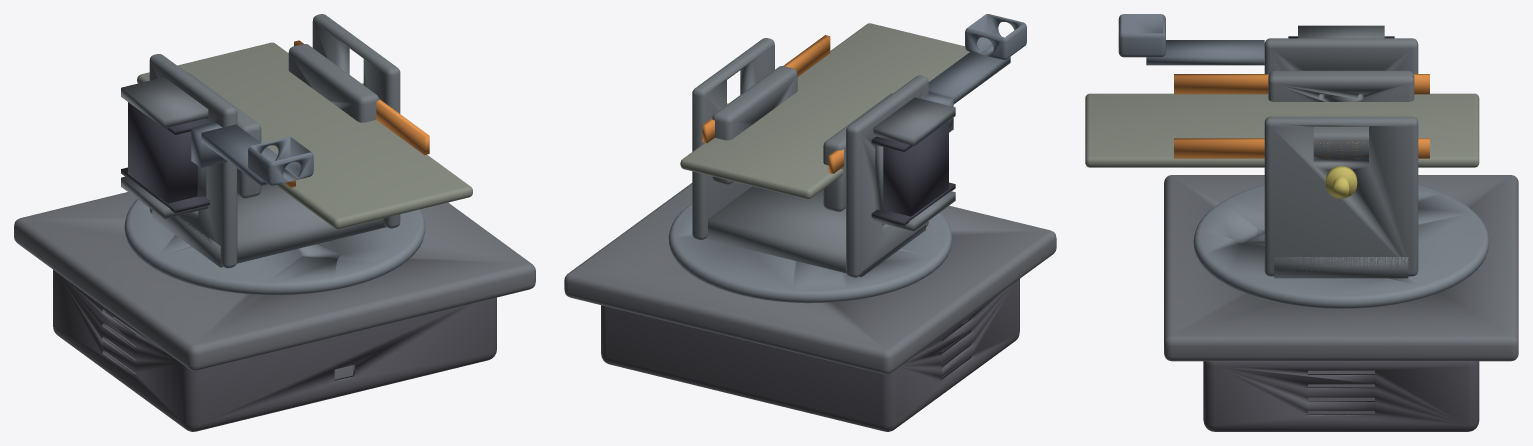
File: Turret_V1.glb
The picture shows the model from 3 angles, left to right: view 1: azimuth 30°, elevation 25°; view 2: azimuth 150°, elevation 25°; view 3: azimuth 270°, elevation 25°; orthographic projection. The views are drawn at different scales.
Parts seen in each view (by area): view 1: Base_Plate, Electronics_Box, Turret_Platform, Pan_Platform, Yoke_Bridge, Yoke_Left, Tilt_Servo_REF, Yoke_Right, Side_R, Servo_Clamp_Top, Camera_Mount, Camera_Arm (+5 smaller); view 2: Base_Plate, Electronics_Box, Turret_Platform, Pan_Platform, Yoke_Bridge, Yoke_Left, Yoke_Right, Tilt_Servo_REF, Side_R, Servo_Clamp_Top, Camera_Arm, Camera_Mount (+5 smaller); view 3: Base_Plate, Yoke_Right, Electronics_Box, Turret_Platform, Pan_Platform, Yoke_Left, Side_L, Yoke_Bridge, Camera_Arm, Rail_L, Rail_R, Camera_Mount (+3 smaller).
Boxes of the visible parts, box(x1,y1,x2,y2) form: Base_Plate: box(14, 192, 535, 370); Electronics_Box: box(53, 270, 496, 431); Turret_Platform: box(137, 42, 472, 229); Pan_Platform: box(124, 199, 425, 295); Yoke_Bridge: box(152, 184, 386, 267); Yoke_Left: box(149, 54, 237, 268); Tilt_Servo_REF: box(128, 102, 197, 203); Yoke_Right: box(312, 14, 400, 228); Side_R: box(288, 44, 379, 122); Servo_Clamp_Top: box(121, 77, 208, 128); Camera_Mount: box(248, 137, 313, 185); Camera_Arm: box(201, 124, 277, 185); Base_Plate: box(564, 183, 1056, 374); Electronics_Box: box(601, 279, 1019, 431); Turret_Platform: box(680, 23, 969, 199); Pan_Platform: box(668, 203, 952, 303); Yoke_Bridge: box(705, 186, 925, 276); Yoke_Left: box(846, 75, 928, 277); Yoke_Right: box(692, 38, 774, 239); Tilt_Servo_REF: box(883, 121, 948, 216); Side_R: box(712, 66, 797, 184); Servo_Clamp_Top: box(873, 97, 955, 146); Camera_Arm: box(928, 52, 1010, 104); Camera_Mount: box(965, 14, 1026, 59); Base_Plate: box(1164, 175, 1518, 361); Yoke_Right: box(1264, 116, 1418, 276); Electronics_Box: box(1203, 361, 1479, 431); Turret_Platform: box(1085, 93, 1479, 167); Pan_Platform: box(1193, 185, 1489, 308); Yoke_Left: box(1264, 38, 1418, 73); Side_L: box(1268, 70, 1414, 101); Yoke_Bridge: box(1274, 257, 1408, 278); Camera_Arm: box(1146, 40, 1264, 65); Rail_L: box(1174, 74, 1429, 94); Rail_R: box(1174, 138, 1429, 158); Camera_Mount: box(1118, 14, 1165, 57).
Size of the model in its own units: 0.2 by 0.1632 by 0.22.
